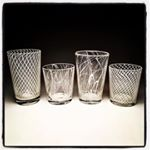cups: (4, 47, 45, 107), (74, 47, 110, 107), (107, 62, 144, 110), (40, 60, 75, 108)
